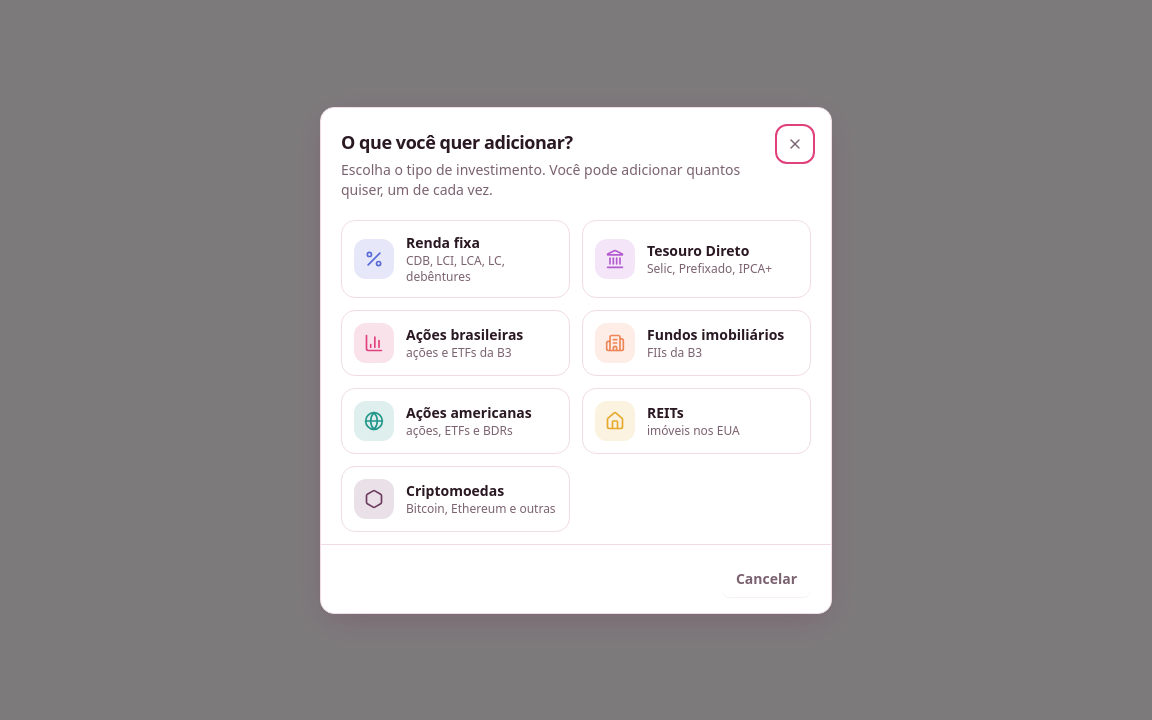
AddAssetModal: renda fixa › moeda em dólar só com prefixado e volta para real ao sair dele
Step 1. Click the button "Renda fixa CDB, LCI, LCA, LC, debêntures" → (456, 258), box [341,220,570,298]
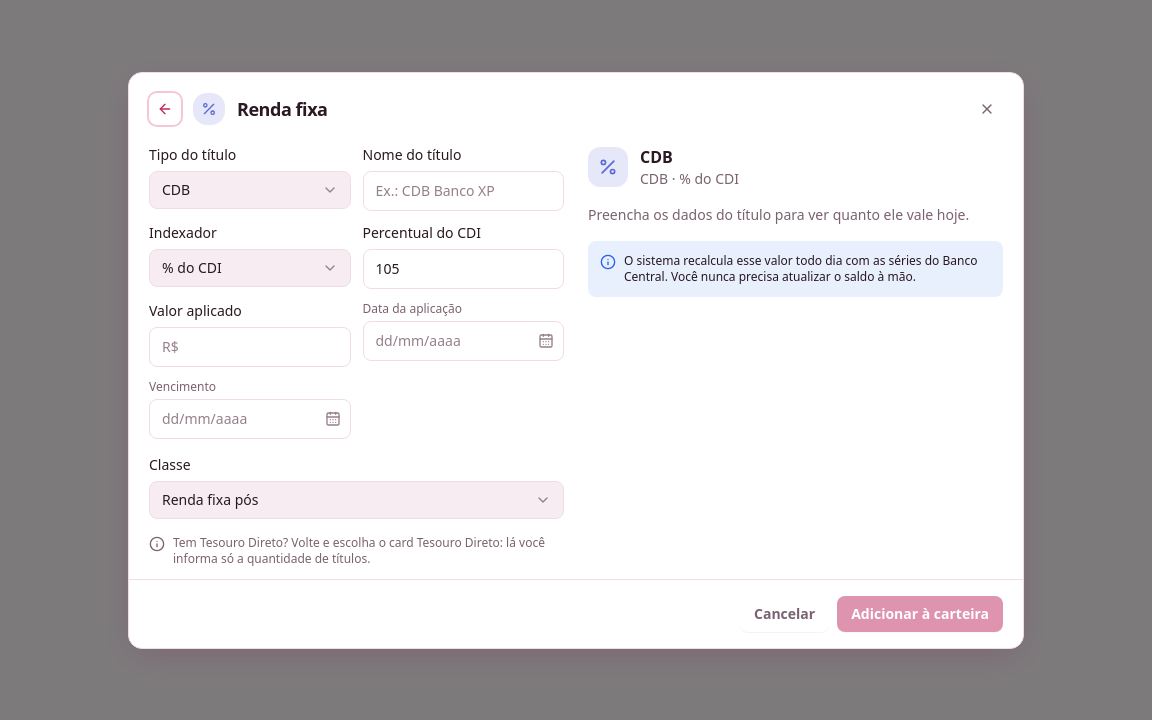
Expected: the field labelled "Percentual do CDI" is shown, [362,248,564,288]
Step 2. Click the dropdown named "Indexador" → (250, 268), box [149,248,350,286]
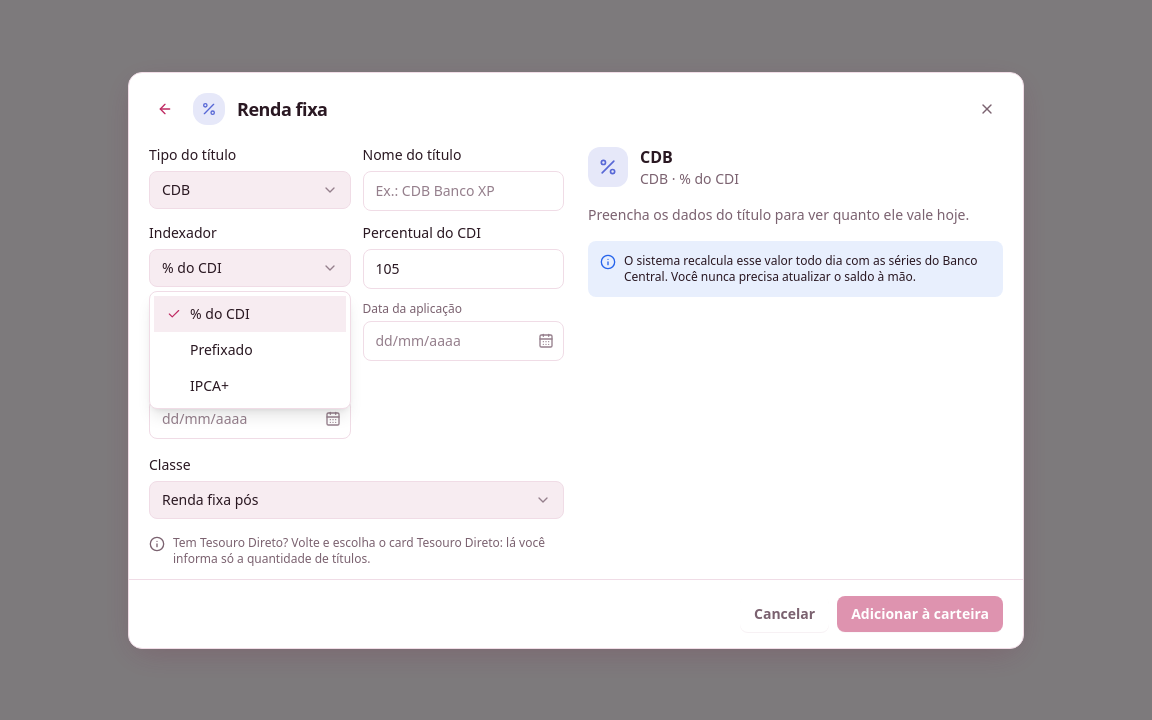
Step 3. Click the option "Prefixado" → (221, 350), box [190,340,253,359]
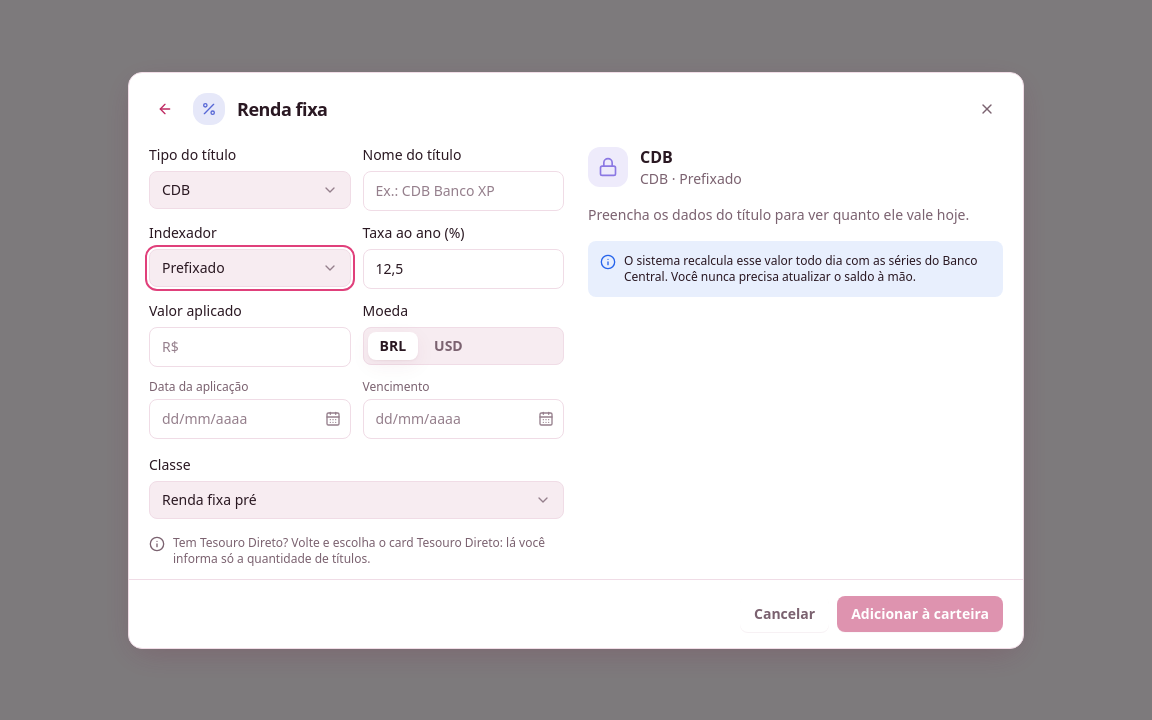
Step 4. Click the radio button labelled "USD" → (448, 346), box [422,332,475,360]
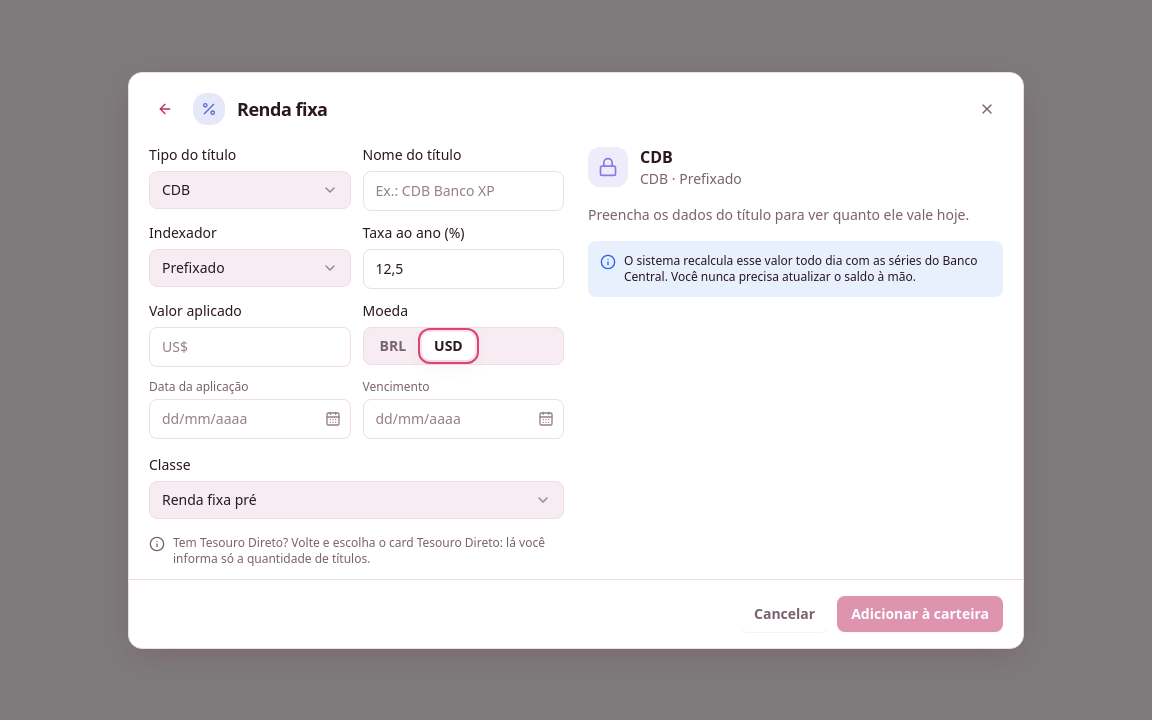
Expected: the radio button labelled "USD" is checked, [422,332,475,360]
Expected: the text "US$" is shown, [162,336,188,356]
Step 5. Click the dropdown named "Indexador" → (250, 268), box [149,248,350,286]
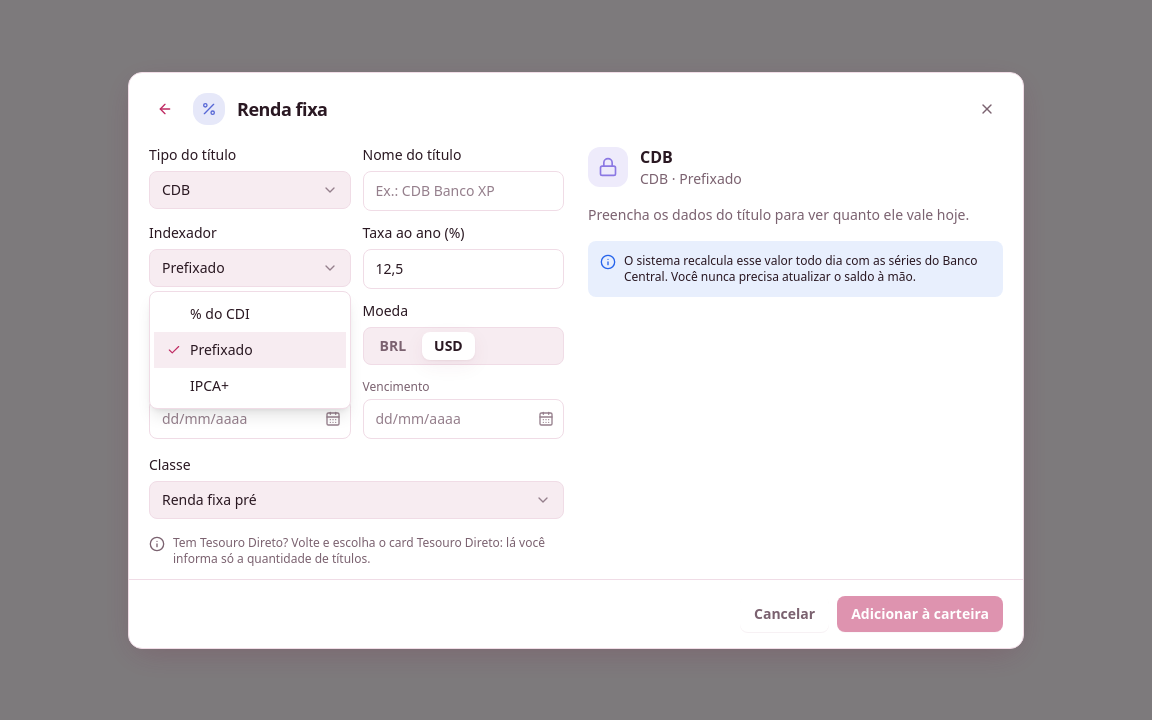
Step 6. Click the option "% do CDI" → (220, 314), box [190,304,250,323]
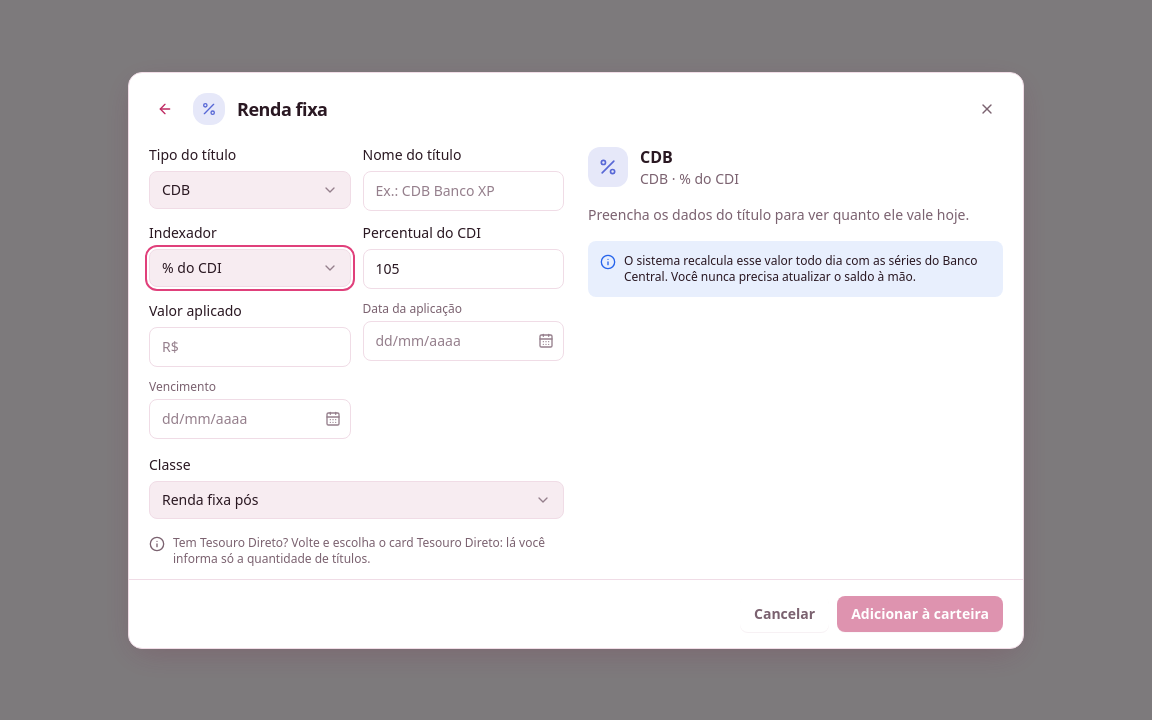
Expected: the radio button labelled "USD" is gone
Expected: the text "R$" is shown, [162,336,179,356]
